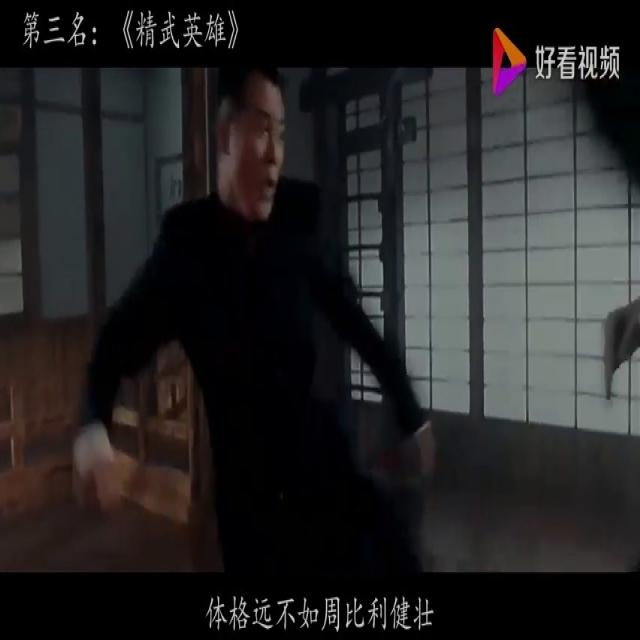fight: (82, 69, 640, 575)
